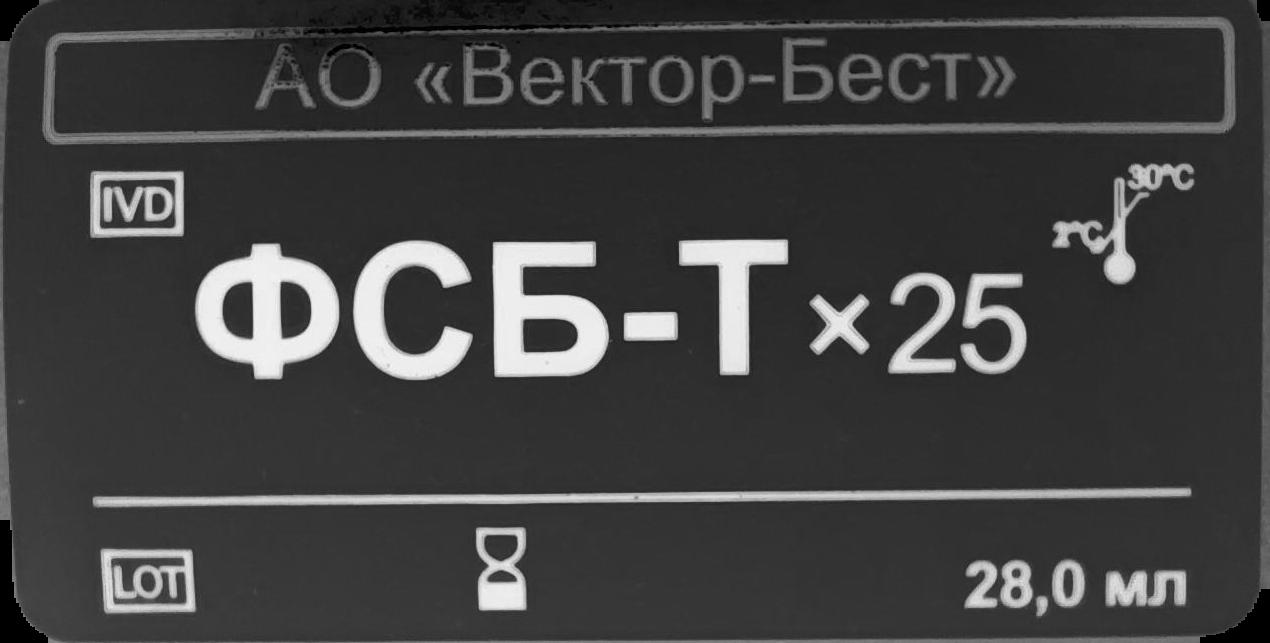something: (1049, 158, 1194, 291), (85, 165, 189, 246), (98, 544, 198, 619), (473, 524, 528, 619)
text: (189, 234, 1031, 384), (253, 36, 1022, 132), (959, 553, 1203, 629)
